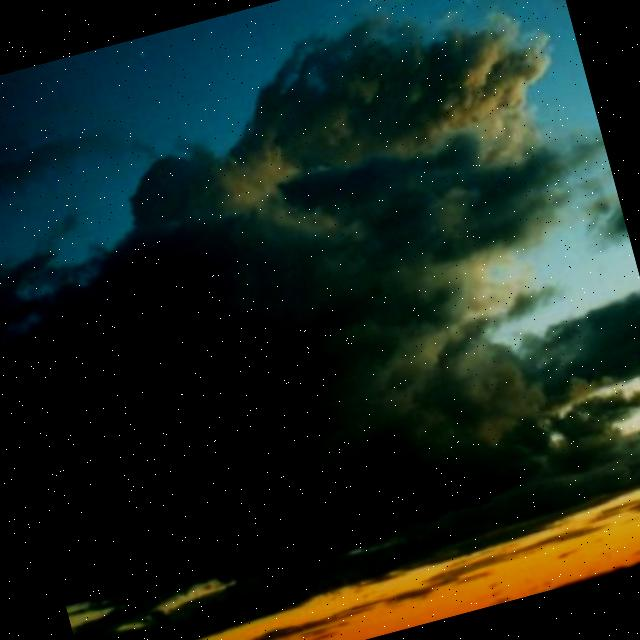Cu: (1, 1, 640, 577)
